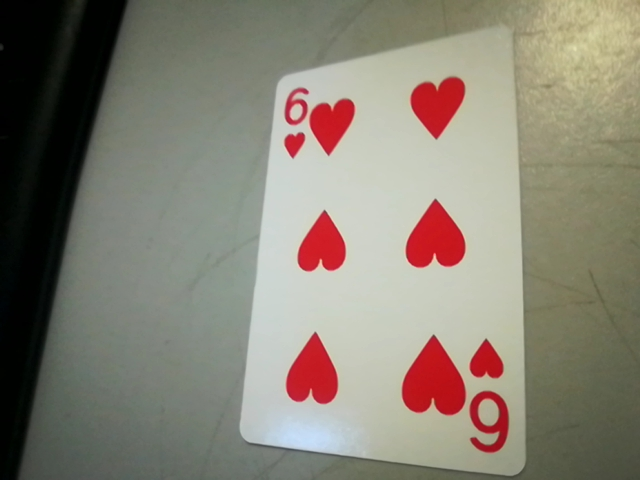hx 6: (463, 333, 522, 464)
